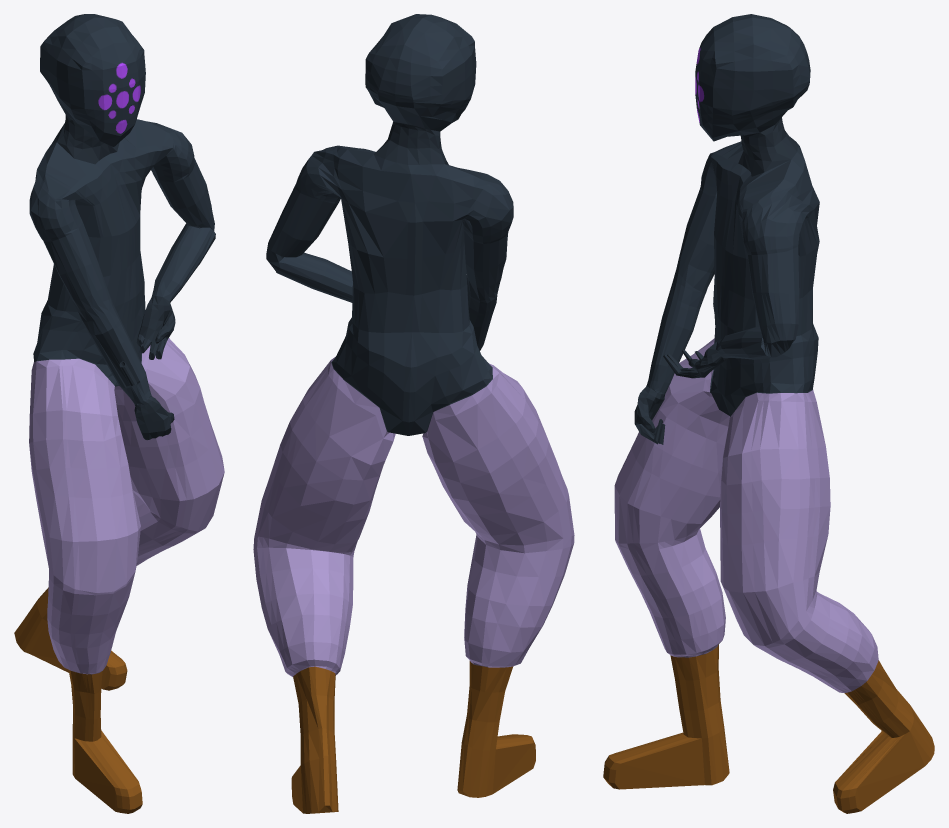
File: Oracle_WB_000008.obj
The picture shows the model from 3 angles, left to right: view 1: azimuth 30°, elevation 25°; view 2: azimuth 150°, elevation 25°; view 3: azimuth 270°, elevation 25°; orthographic projection. The views are drawn at different scales.
Parts seen in each view (by area): view 1: Cube; view 2: Cube; view 3: Cube.
Boxes of the visible parts, x1,y1,x2,y2 form: Cube: (14, 14, 224, 813); Cube: (253, 14, 574, 813); Cube: (603, 14, 934, 813).
Size of the model in its own units: 1.23 by 3.79 by 1.46.
